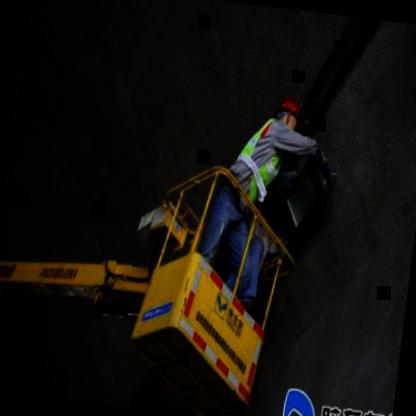helmet: (272, 93, 307, 132)
